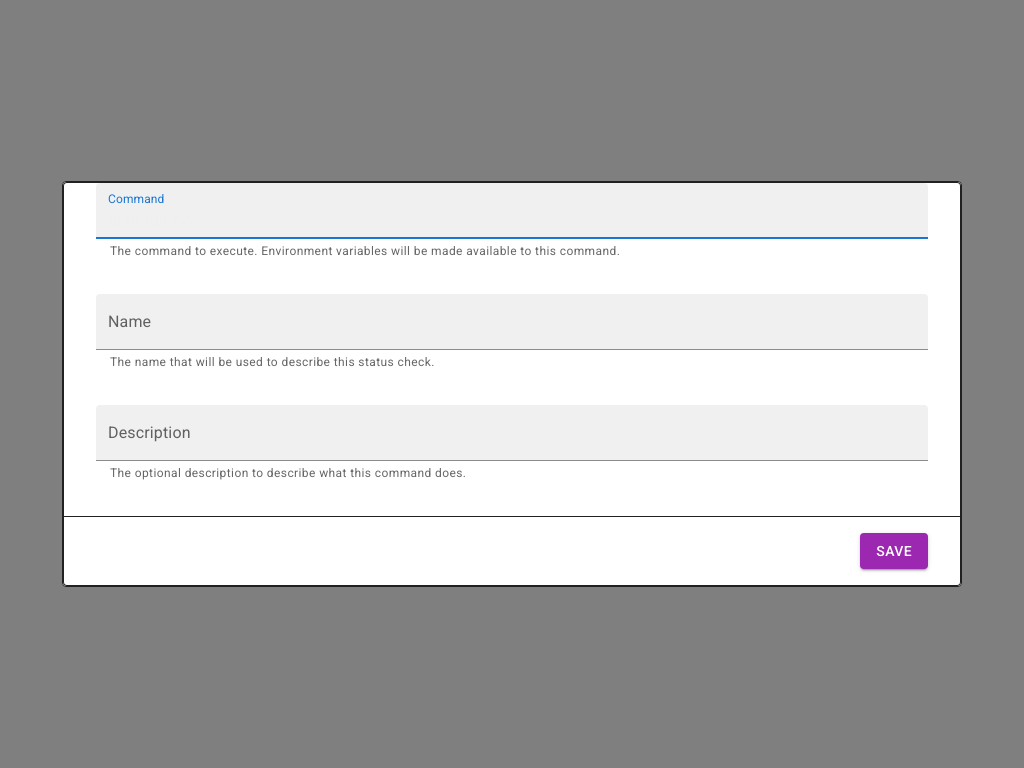
Test case: ~/pages/apps/[id]/environments/[env-id]/config/_components/TabStatusChecks/StatusCheckModal.tsx › create mode › should not allow for empty command inputs
This screenshot has width=1024, height=768.
Click the button "Save" at (894, 551), box [860,533,928,569]
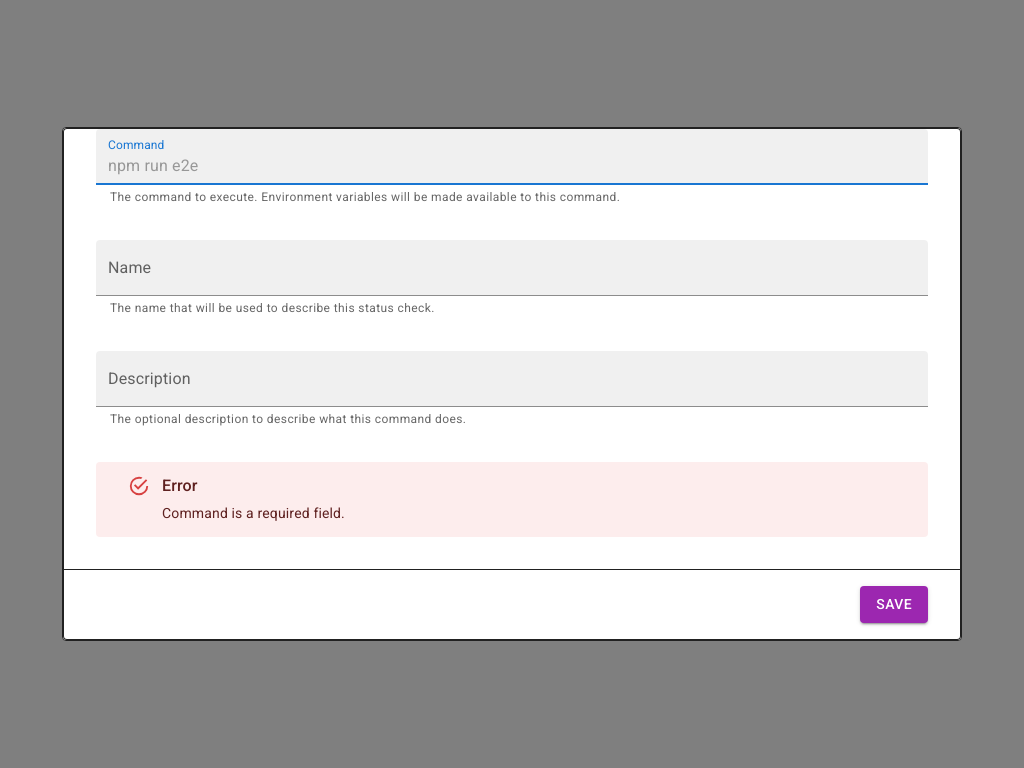
Now the text "Command is a required field." is shown, box [162,503,345,523]
